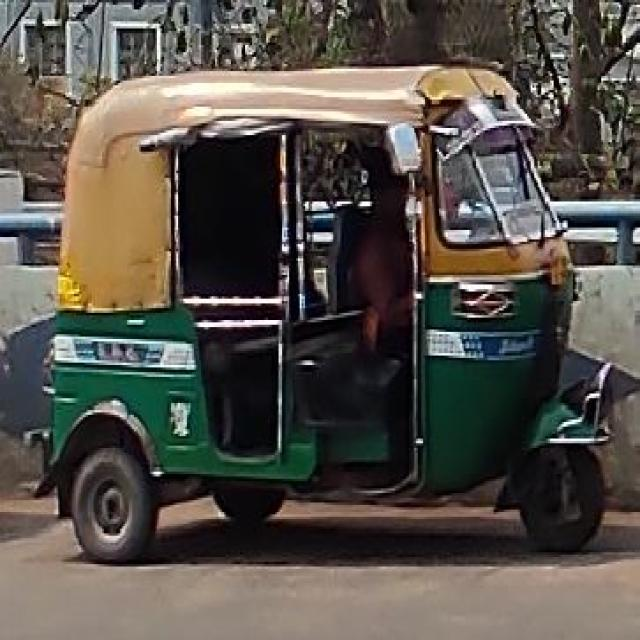autorickshaw: (37, 59, 614, 569)
